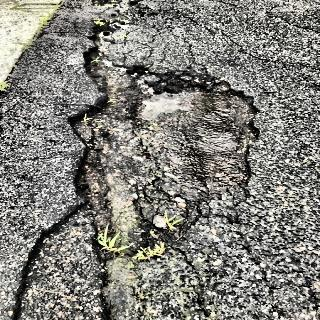alligator-crack: (104, 1, 212, 72)
crack: (175, 7, 318, 72), (228, 226, 282, 318), (182, 257, 218, 314)
pothole: (67, 23, 269, 272), (15, 204, 165, 316)
